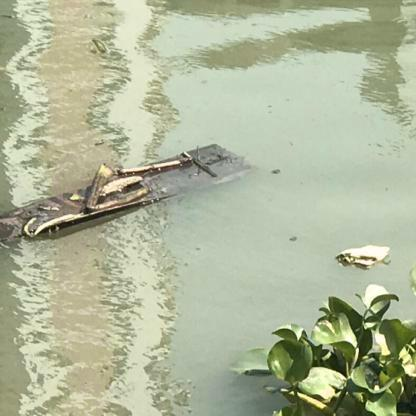Trash: (338, 231, 394, 280)
